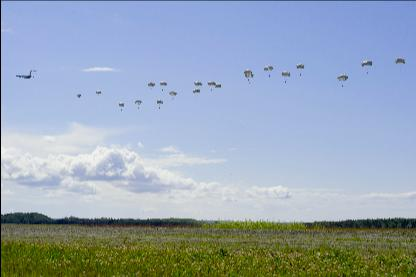C2: (15, 69, 39, 77)
